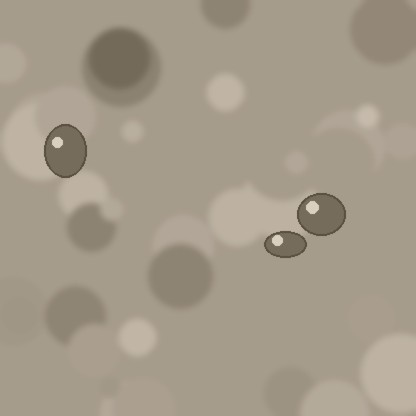gota: (44, 126, 86, 182), (297, 195, 345, 239), (264, 232, 306, 260)
